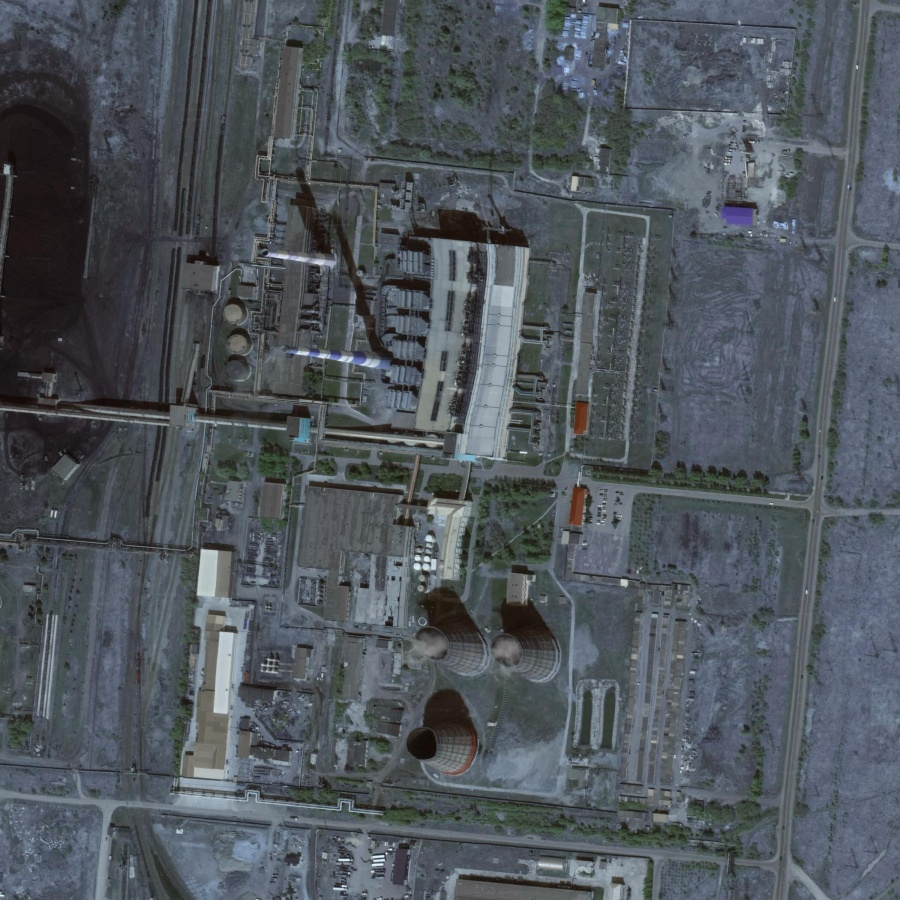PowerPlant: (242, 156, 431, 418), (398, 558, 587, 813)
